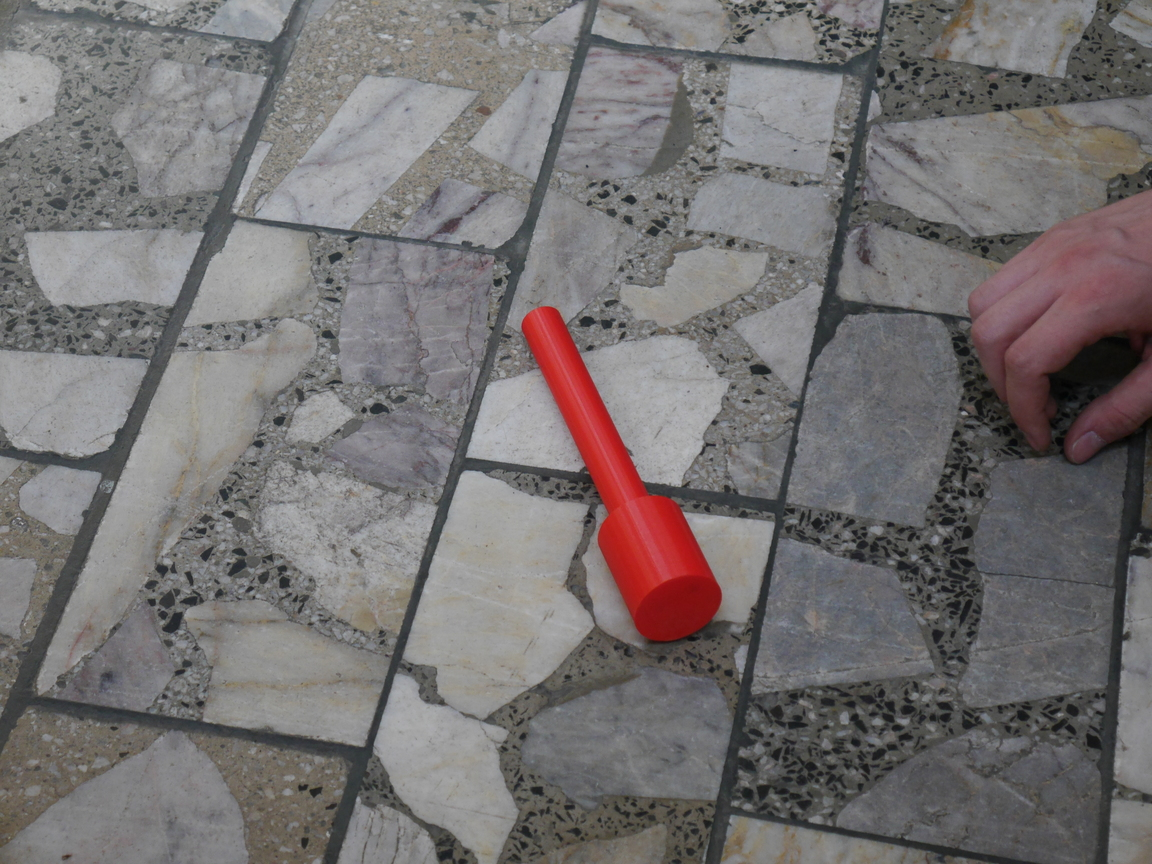cargo_g: (521, 305, 723, 640)
